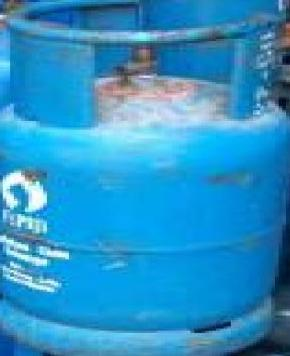cylinder: (1, 1, 290, 356)
